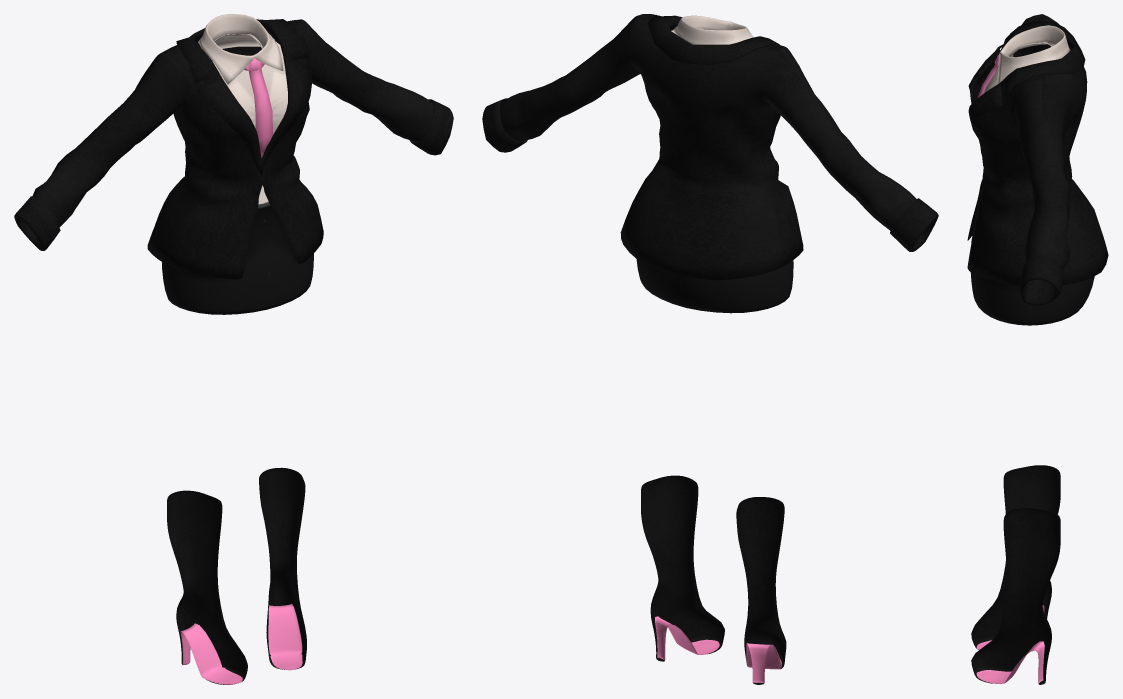
File: woman-coprate.glb
3 renders of one model, left to right at view 1: azimuth 30°, elevation 25°; view 2: azimuth 150°, elevation 25°; view 3: azimuth 270°, elevation 25°, orthographic. The views are drawn at different scales.
Parts seen in each view (by area): view 1: Circle.001_0, Circle.004_3, Circle.003_2, Circle.002_1, Circle.006_5, Circle.005_4; view 2: Circle.001_0, Circle.004_3, Circle.003_2, Circle.002_1, Circle.006_5; view 3: Circle.001_0, Circle.004_3, Circle.003_2, Circle.002_1, Circle.006_5.
Part boxes in pixels (x1,y1,x2,y2): Circle.001_0: [14, 19, 453, 279]; Circle.004_3: [167, 467, 306, 684]; Circle.003_2: [162, 34, 313, 314]; Circle.002_1: [176, 19, 311, 177]; Circle.006_5: [198, 14, 283, 84]; Circle.005_4: [244, 57, 272, 157]; Circle.001_0: [482, 14, 938, 280]; Circle.004_3: [641, 475, 786, 684]; Circle.003_2: [636, 28, 793, 313]; Circle.002_1: [647, 15, 779, 65]; Circle.006_5: [673, 15, 753, 44]; Circle.001_0: [967, 14, 1108, 305]; Circle.004_3: [971, 465, 1060, 684]; Circle.003_2: [970, 42, 1094, 325]; Circle.002_1: [968, 21, 1085, 166]; Circle.006_5: [997, 25, 1070, 84].
Size of the model in its own units: 5.65 by 7.84 by 1.6.
Materials: 6 (4 with a texture image).
